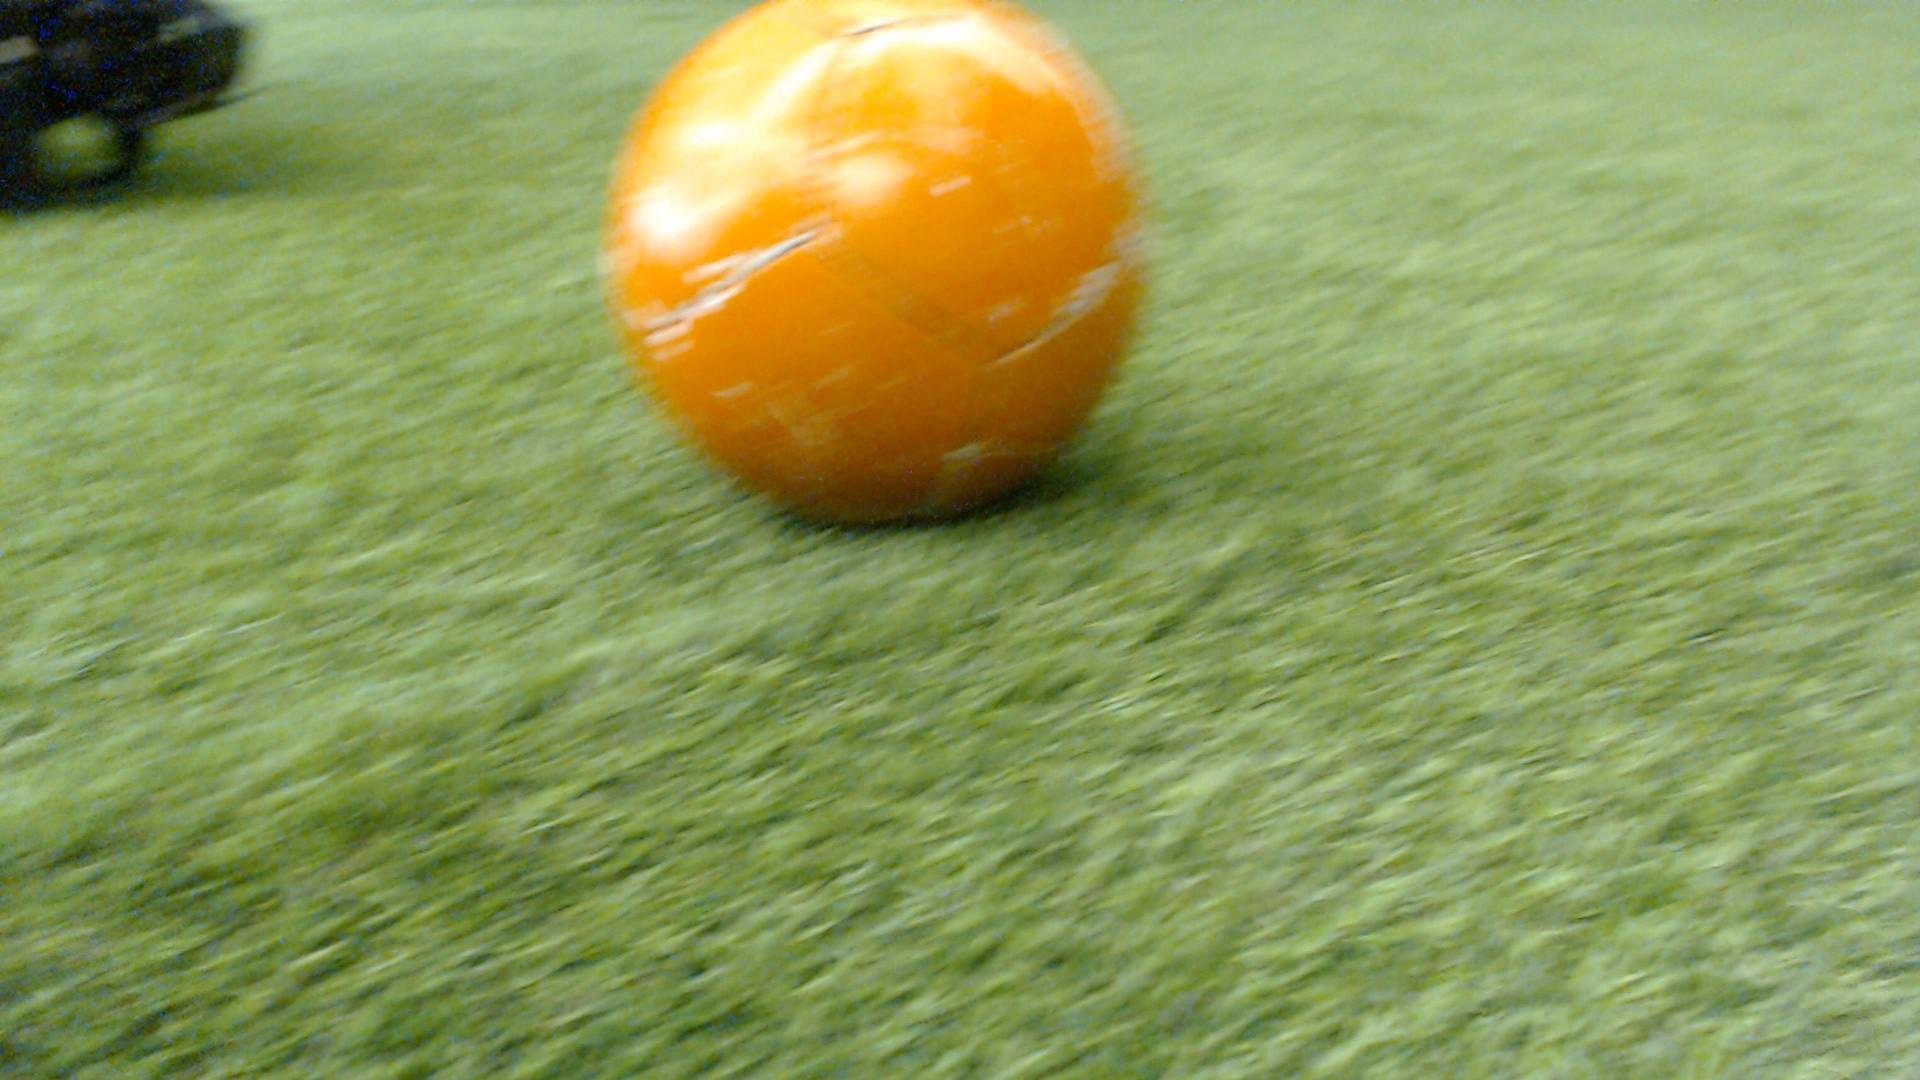bola: (574, 0, 1203, 549)
